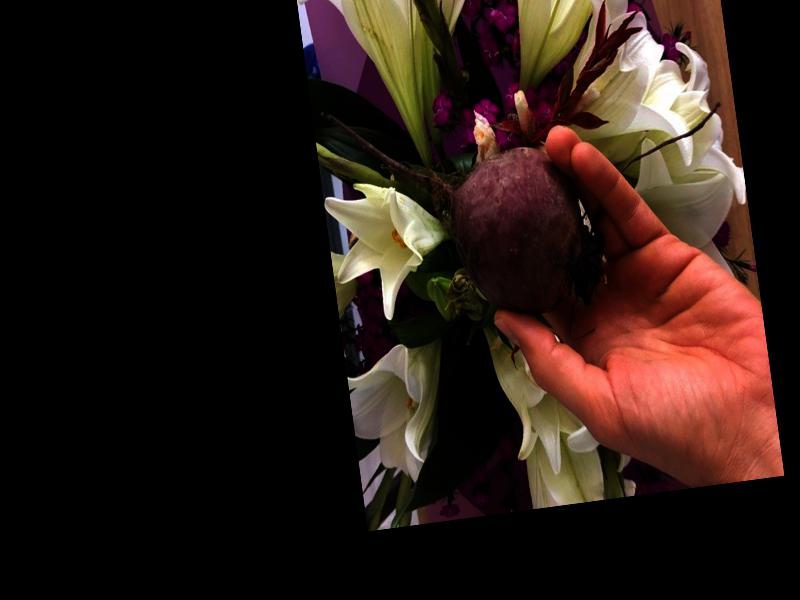Beet: (322, 76, 611, 337)
